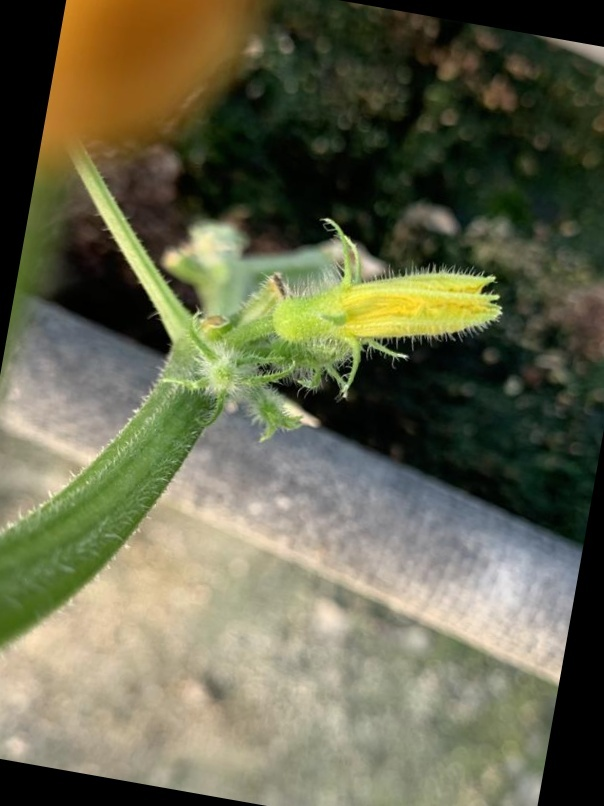bud: (260, 230, 504, 372)
